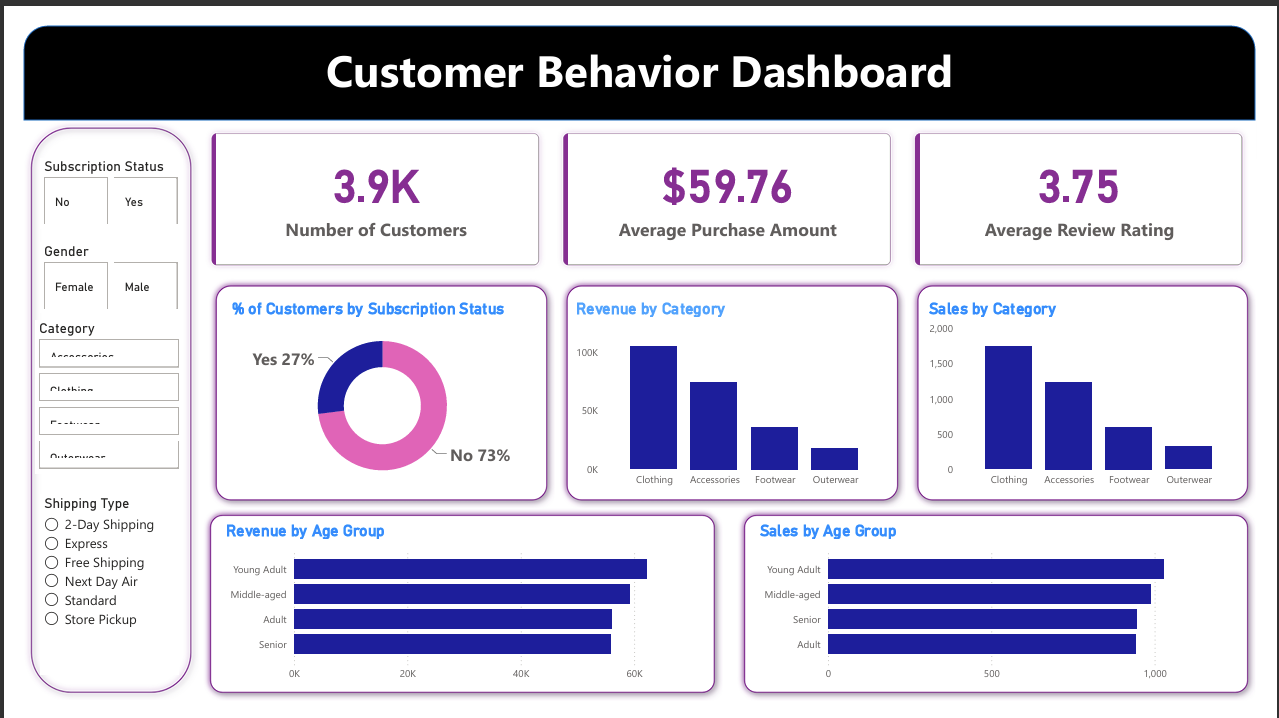

What the dashboard file says about the page in this screenshot:
{"tool":"powerbi","page":{"name":"Page 1","canvas":[1500,820],"ordinal":0},"visuals":[{"type":"cardVisual","fields":{"Data":["public customer.Number of Customers","public customer.Average Purchase Amount","public customer.Average Review Rating"]},"box":[212.9,115.3,1286.5,191.6],"z":2000},{"type":"shape","box":[218.3,585.6,631.7,234.2],"z":2500,"group":"g1"},{"type":"shape","box":[0,0,1499.4,115.3],"z":3000},{"type":"textbox","box":[0,12.4,1499.4,102.9],"z":4000},{"type":"shape","box":[225.4,307,420.5,278.6],"z":5000},{"type":"donutChart","title":"% of Customers by Subscription Status","fields":{"Category":["public customer.subscription_status"],"Y":["CountNonNull(public customer.customer_id)"]},"box":[248.4,331.8,376.2,237.8],"z":6000},{"type":"shape","box":[1078.9,307,420.5,278.6],"z":7000},{"type":"shape","box":[652.1,307,420.5,278.6],"z":8000},{"type":"clusteredColumnChart","title":"Revenue by Category","fields":{"Category":["public customer.category"],"Y":["Sum(public customer.purchase_amount)"]},"box":[667.2,331.8,385.1,237.8],"z":9000},{"type":"clusteredColumnChart","title":"Sales by Category","fields":{"Category":["public customer.category"],"Y":["CountNonNull(public customer.customer_id)"]},"box":[1096.6,331.8,385.1,237.8],"z":10000},{"type":"shape","box":[0,115.3,212.9,704.5],"z":11000},{"type":"advancedSlicerVisual","fields":{"Values":["public customer.subscription_status"]},"box":[19.5,161.5,173.9,85.2],"z":12000},{"type":"advancedSlicerVisual","fields":{"Values":["public customer.gender"]},"box":[19.5,264.4,173.9,85.2],"z":13000},{"type":"advancedSlicerVisual","fields":{"Values":["public customer.category"]},"box":[14.2,358.4,179.2,186.3],"z":14000},{"type":"listSlicer","fields":{"Values":["public customer.shipping_type"]},"box":[19.5,569.6,168.6,220],"z":15000},{"type":"shape","box":[867.7,585.6,631.7,234.2],"z":16000},{"type":"clusteredBarChart","title":"Sales by Age Group","fields":{"Category":["public customer.age_group"],"Y":["CountNonNull(public customer.customer_id)"]},"box":[890.8,601.5,585.6,204.1],"z":17000},{"type":"clusteredBarChart","title":"Revenue by Age Group","fields":{"Category":["public customer.age_group"],"Y":["Sum(public customer.purchase_amount)"]},"box":[241.4,601.6,585.6,204.1],"z":17500,"group":"g1"},{"type":"group","id":"g1","title":"Group 1","box":[218.3,585.6,631.7,234.2],"z":17501}]}

Visuals, with their boxes in screenshot pixels (x1, y1, x2, y2), scaled from the page's 1500x820 canvas onto the 1279x718 screenshot:
cardVisual - public customer.Number of Customers x public customer.Average Purchase Amount: [182,101,1278,269]
shape: [186,513,725,717]
shape: [0,0,1278,101]
textbox: [0,11,1278,101]
shape: [192,269,551,513]
"% of Customers by Subscription Status" donutChart: [212,291,533,499]
shape: [920,269,1278,513]
shape: [556,269,915,513]
"Revenue by Category" clusteredColumnChart: [569,291,897,499]
"Sales by Category" clusteredColumnChart: [935,291,1263,499]
shape: [0,101,182,717]
advancedSlicerVisual - public customer.subscription_status: [17,141,165,216]
advancedSlicerVisual - public customer.gender: [17,232,165,306]
advancedSlicerVisual - public customer.category: [12,314,165,477]
listSlicer - public customer.shipping_type: [17,499,160,691]
shape: [740,513,1278,717]
"Sales by Age Group" clusteredBarChart: [760,527,1259,705]
"Revenue by Age Group" clusteredBarChart: [206,527,705,705]
"Group 1" group: [186,513,725,717]
